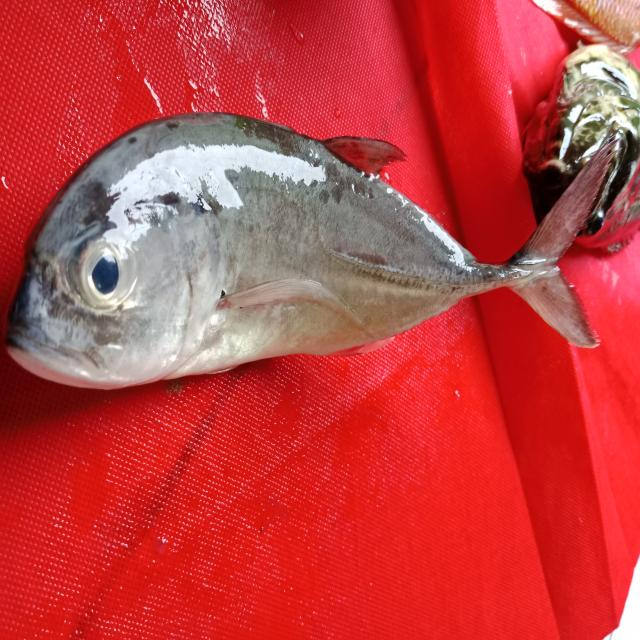ikan: (13, 92, 623, 391)
